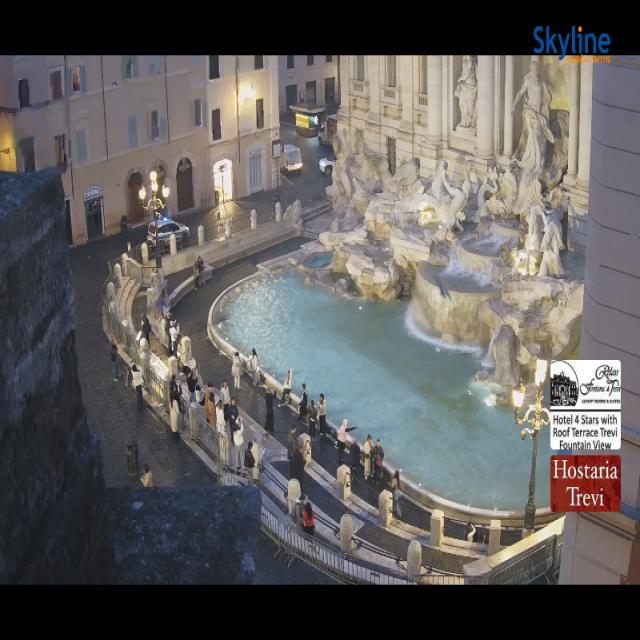person: (214, 400, 230, 463), (337, 419, 356, 464), (290, 444, 304, 491), (233, 419, 243, 471), (292, 493, 306, 530), (212, 400, 226, 436), (132, 365, 143, 410), (372, 439, 383, 483), (205, 382, 216, 426), (279, 370, 292, 407), (265, 389, 276, 432), (244, 440, 255, 481), (170, 393, 179, 441), (220, 379, 230, 421), (392, 471, 401, 517), (228, 398, 239, 434), (364, 435, 373, 479), (303, 503, 315, 536), (296, 384, 307, 419), (249, 349, 259, 387), (232, 352, 242, 389), (308, 400, 317, 441), (347, 442, 360, 470), (110, 339, 118, 381), (318, 393, 326, 435), (170, 320, 179, 356), (141, 313, 151, 343), (288, 424, 296, 461), (187, 371, 196, 402), (141, 464, 153, 487), (196, 385, 205, 407), (197, 257, 204, 285), (167, 317, 172, 356), (465, 523, 475, 542), (170, 375, 178, 397), (193, 259, 199, 288), (478, 530, 488, 544)
